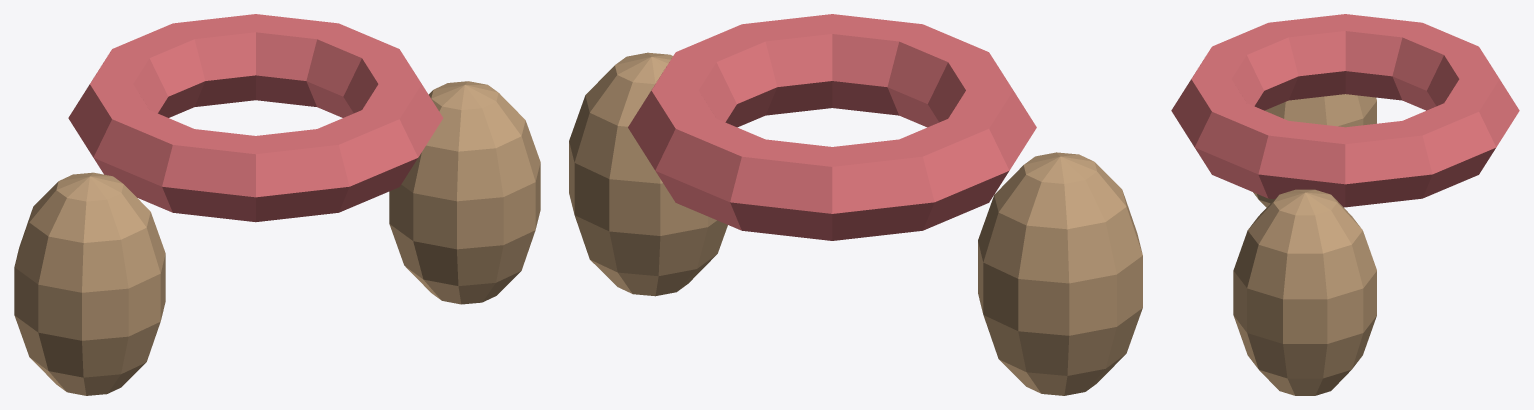
The model's file is toy_bear_arms.glb.
The picture shows the model from 3 angles, left to right: view 1: azimuth 30°, elevation 25°; view 2: azimuth 150°, elevation 25°; view 3: azimuth 270°, elevation 25°; orthographic projection. The views are drawn at different scales.
Parts seen in each view (by area): view 1: Scarf, Arm.-1; view 2: Scarf, Arm.-1; view 3: Scarf, Arm.-1.
Boxes of the visible parts, x1,y1,x2,y2 form: Scarf: (68, 14, 443, 222); Arm.-1: (14, 81, 540, 395); Scarf: (628, 14, 1036, 240); Arm.-1: (569, 52, 1142, 395); Scarf: (1171, 14, 1519, 207); Arm.-1: (1233, 94, 1376, 395).
Size of the model in its own units: 0.402 by 0.1885 by 0.26.
